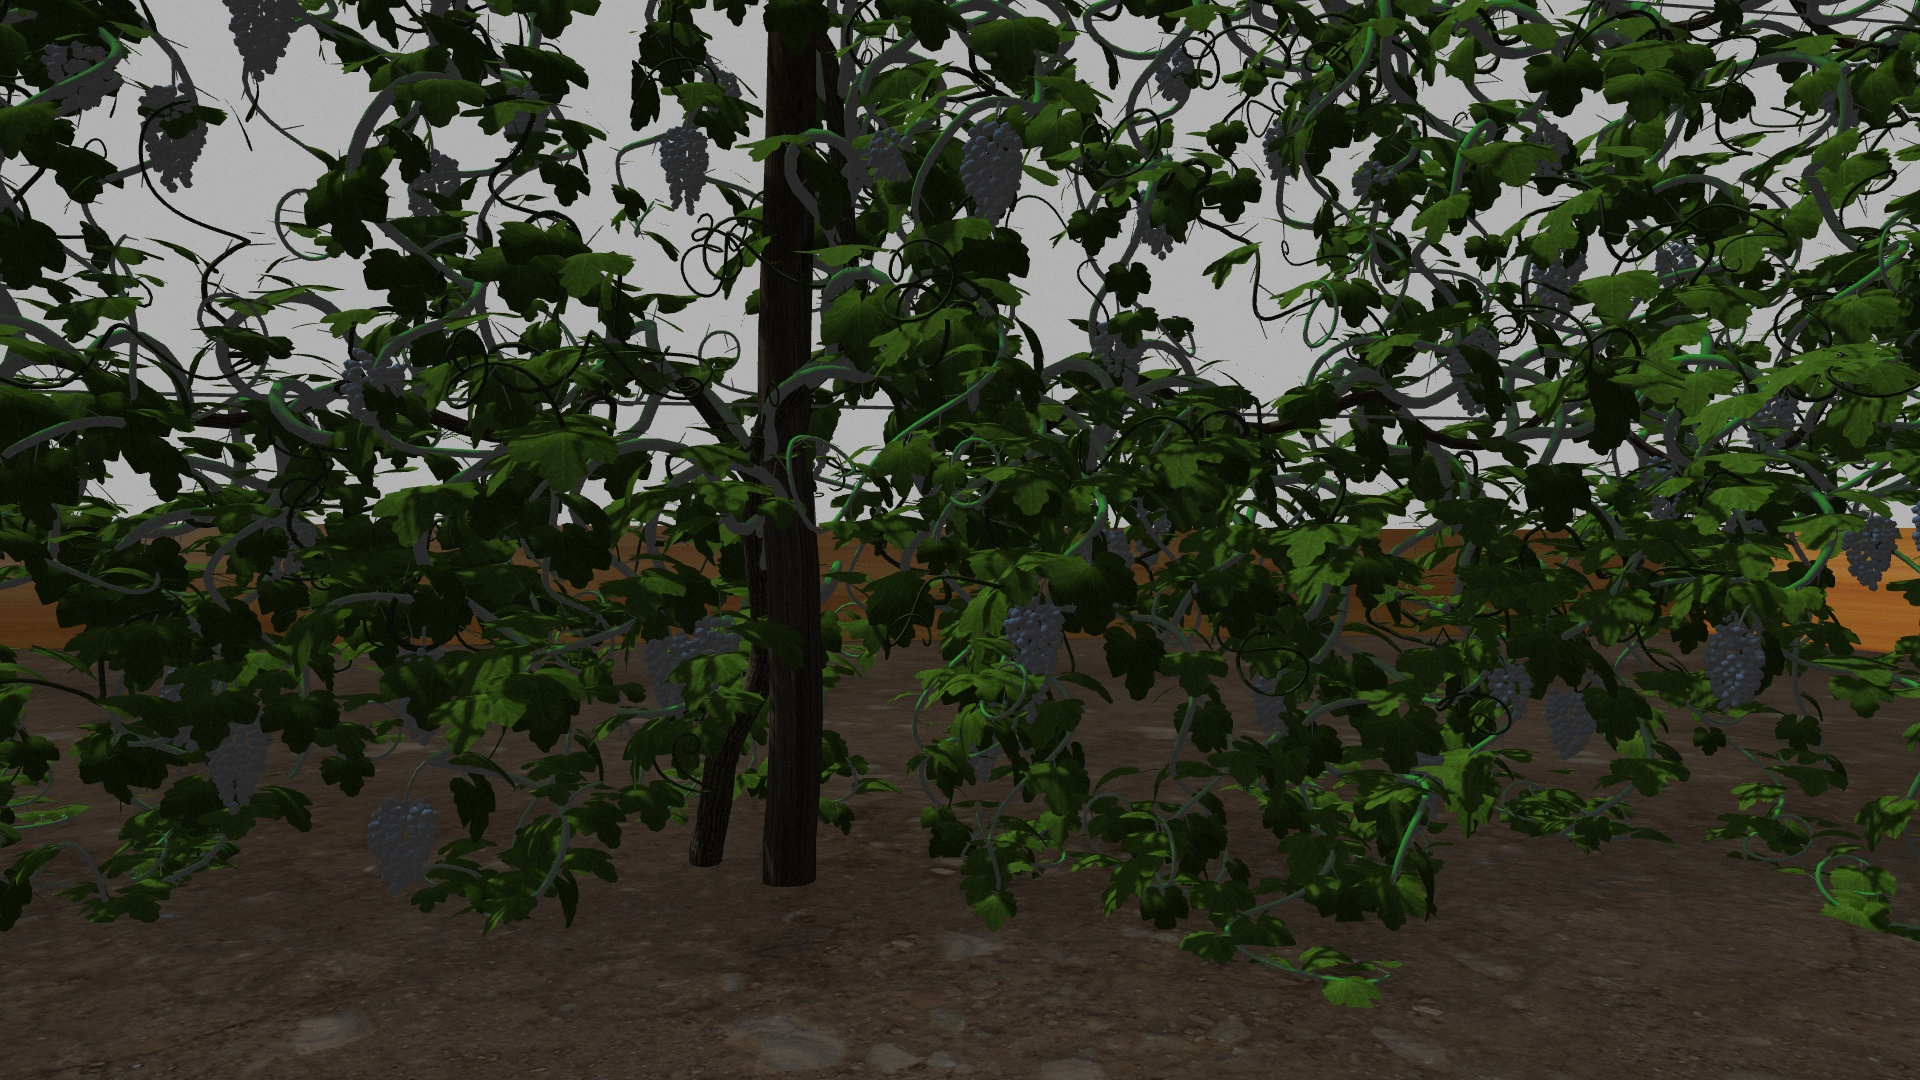grape: (365, 796, 443, 897), (138, 83, 208, 193), (959, 113, 1026, 227), (41, 42, 123, 112), (1706, 622, 1767, 716), (210, 723, 272, 814), (225, 7, 297, 82), (1007, 603, 1067, 688), (342, 348, 406, 426), (1445, 328, 1501, 415), (1844, 506, 1899, 591), (644, 633, 695, 717), (659, 128, 709, 214), (1530, 256, 1590, 324), (405, 148, 462, 218), (1096, 316, 1149, 390), (1543, 690, 1596, 764), (1249, 671, 1299, 736), (1490, 661, 1535, 723), (870, 128, 916, 185), (1753, 396, 1796, 451), (1527, 123, 1569, 179), (692, 617, 742, 659), (1154, 51, 1193, 104), (1656, 241, 1697, 291), (1352, 161, 1393, 204)
